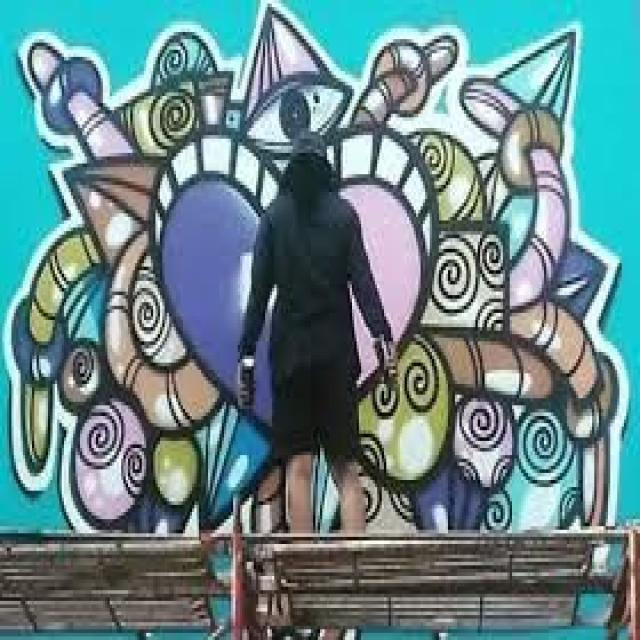-: (8, 2, 620, 524)
